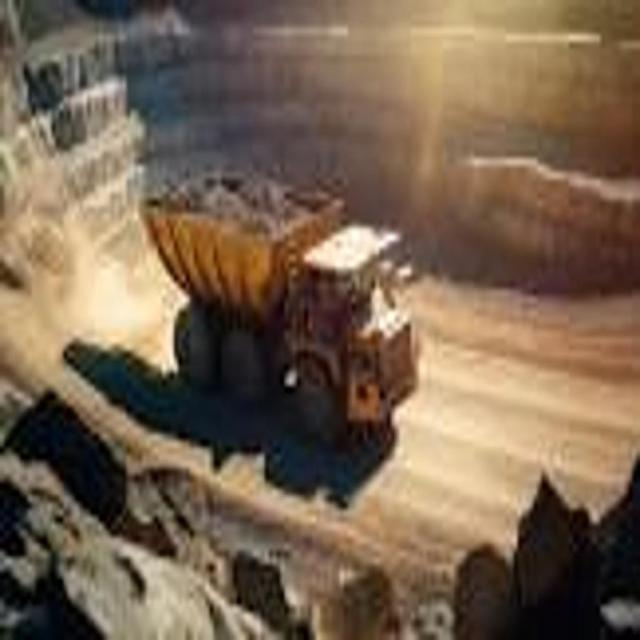dump_truck: (148, 153, 432, 454)
